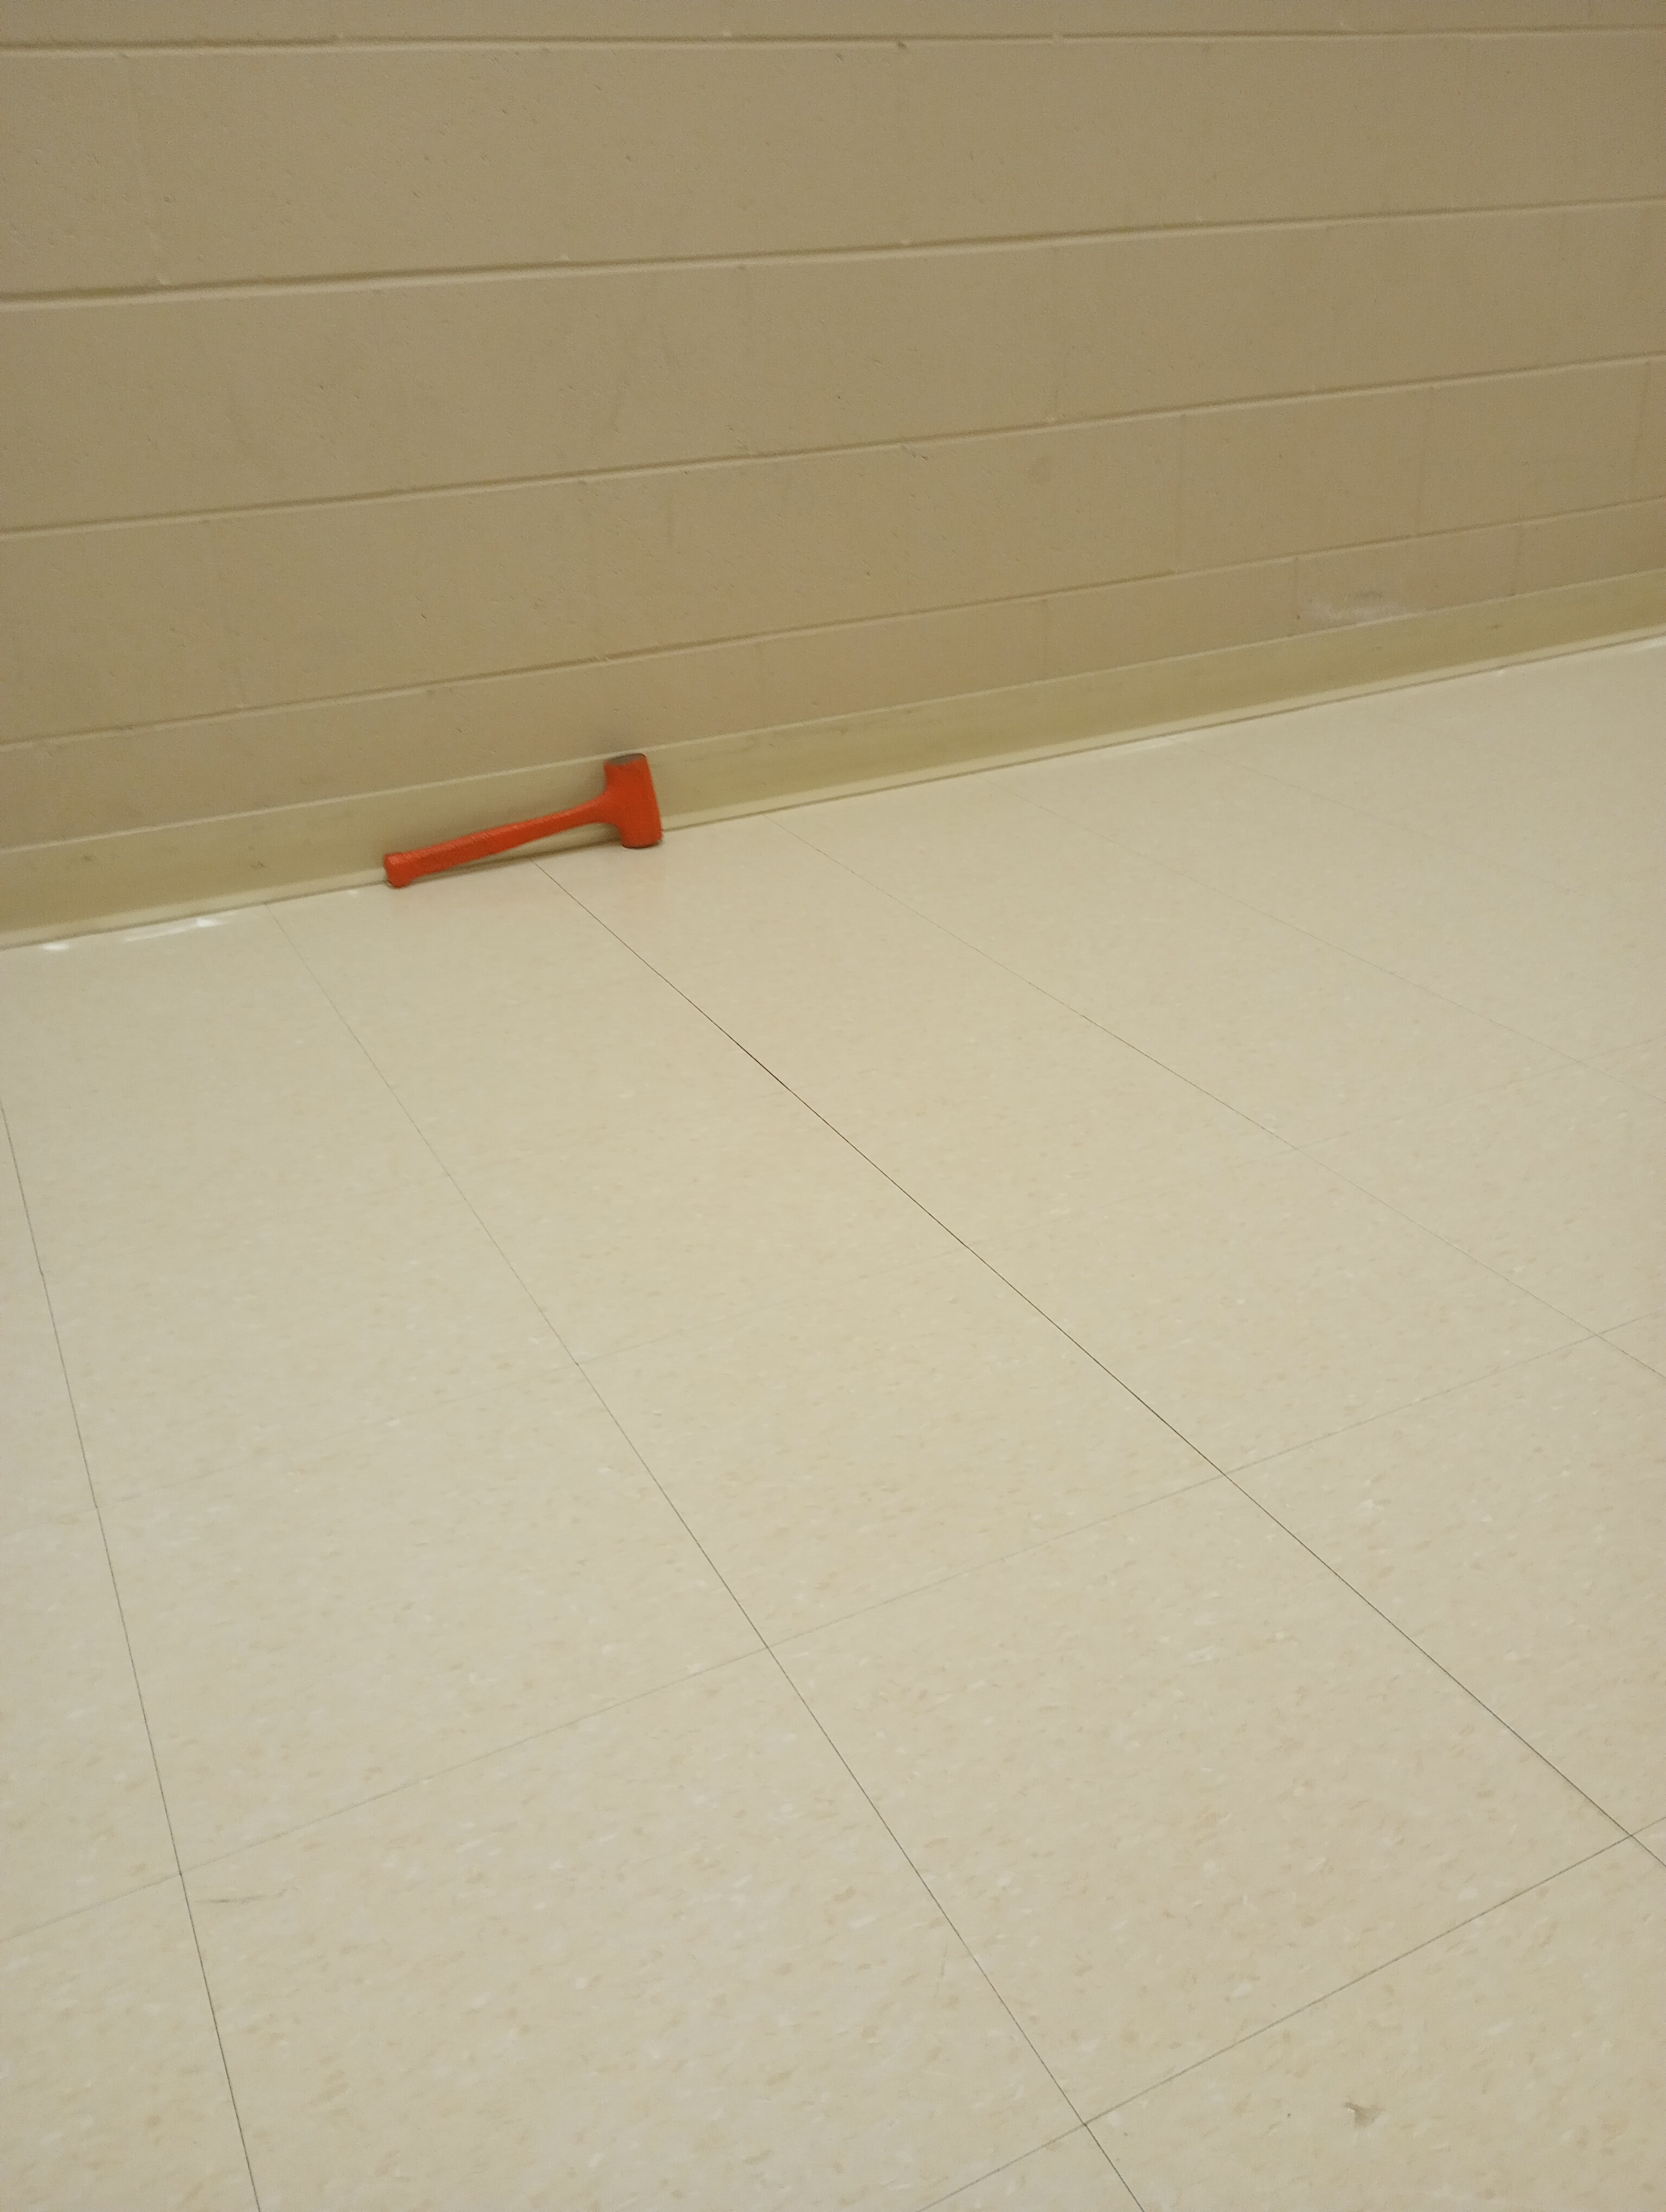bottle: (376, 740, 667, 899)
